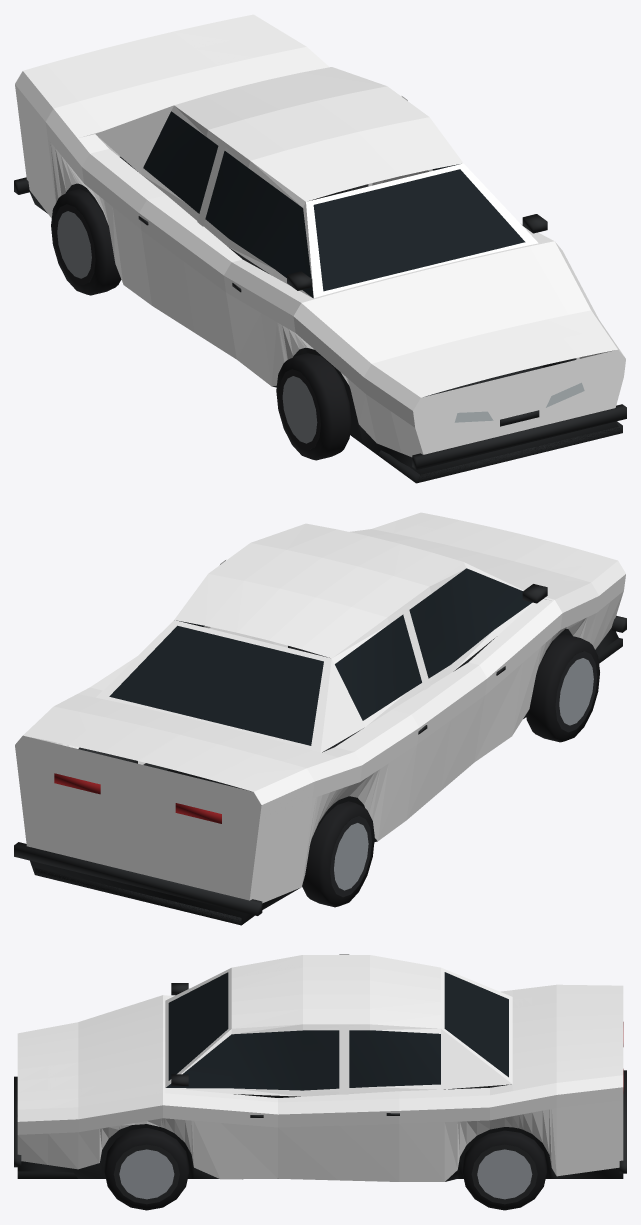
Rendered from castellani_nimboalto.glb.
3 views of the same model, one above another, from view 1: azimuth 30°, elevation 25°; view 2: azimuth 150°, elevation 25°; view 3: azimuth 270°, elevation 25° (orthographic). The views are drawn at different scales.
Parts seen in each view (by area): view 1: Body_Paint, Body_Details, Mount_FrontLeft_Wheel_Details, Mount_RearLeft_Wheel_Details; view 2: Body_Paint, Body_Details, Mount_FrontLeft_Wheel_Details, Mount_RearLeft_Wheel_Details; view 3: Body_Paint, Body_Details, Mount_FrontRight_Wheel_Details, Mount_RearRight_Wheel_Details.
Part boxes in pixels (<box>): Body_Paint: <box>15,14,625,457</box>; Body_Details: <box>14,111,626,483</box>; Mount_FrontLeft_Wheel_Details: <box>276,353,351,460</box>; Mount_RearLeft_Wheel_Details: <box>51,189,121,295</box>; Body_Paint: <box>15,512,625,903</box>; Body_Details: <box>14,568,626,925</box>; Mount_FrontLeft_Wheel_Details: <box>526,634,599,742</box>; Mount_RearLeft_Wheel_Details: <box>302,801,374,907</box>; Body_Paint: <box>17,954,623,1181</box>; Body_Details: <box>14,972,626,1181</box>; Mount_FrontRight_Wheel_Details: <box>104,1128,189,1210</box>; Mount_RearRight_Wheel_Details: <box>462,1130,546,1210</box>.
Bounding box in the file's own units: 1.94 × 1.43 × 4.62.
Materials: 2 (1 with a texture image).
